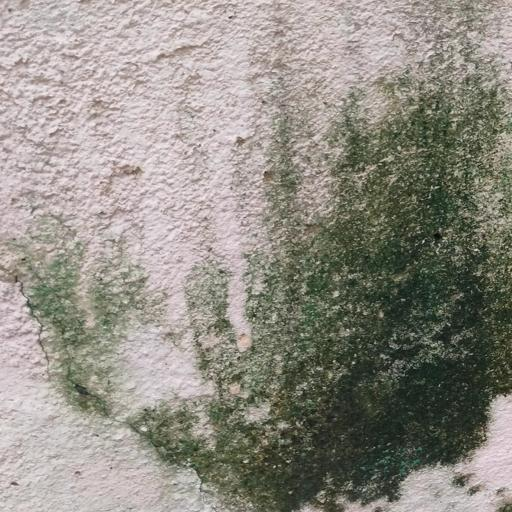algae: (45, 76, 512, 511)
